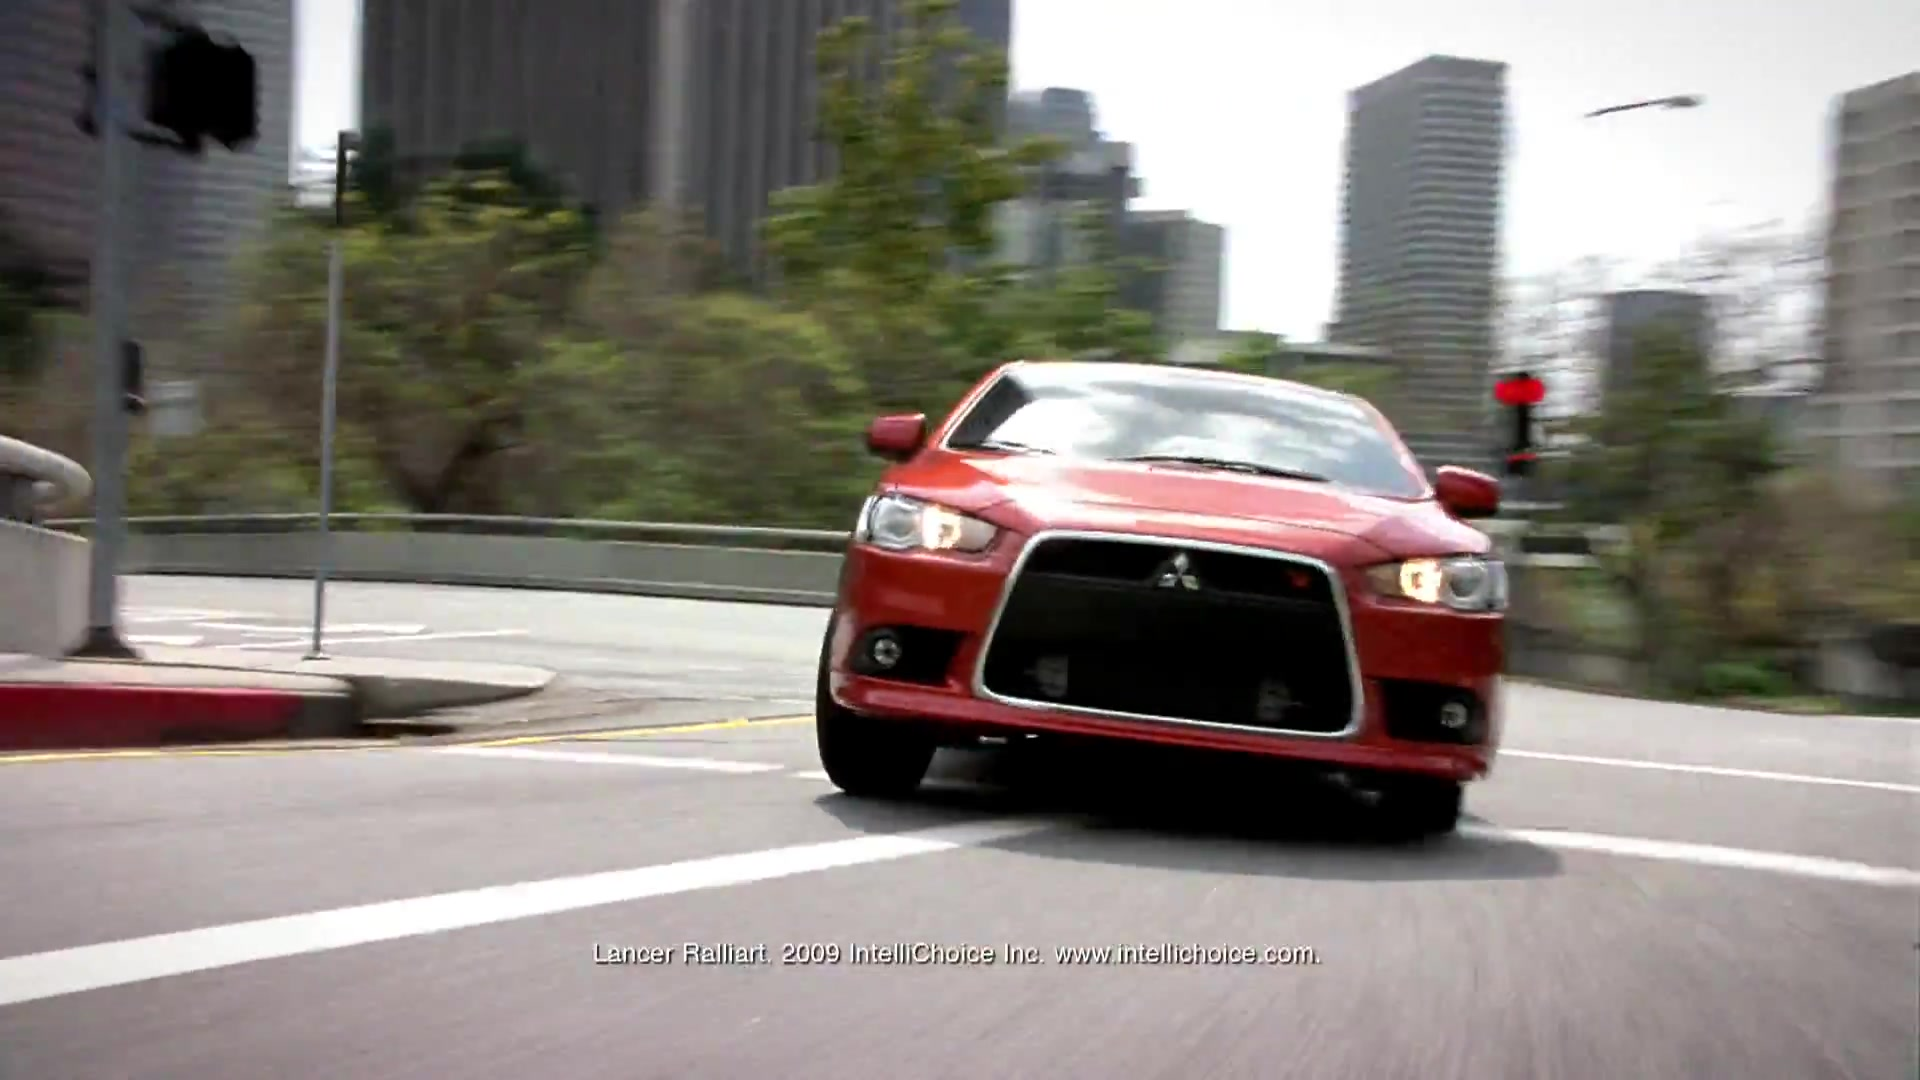car: (808, 357, 1514, 852)
